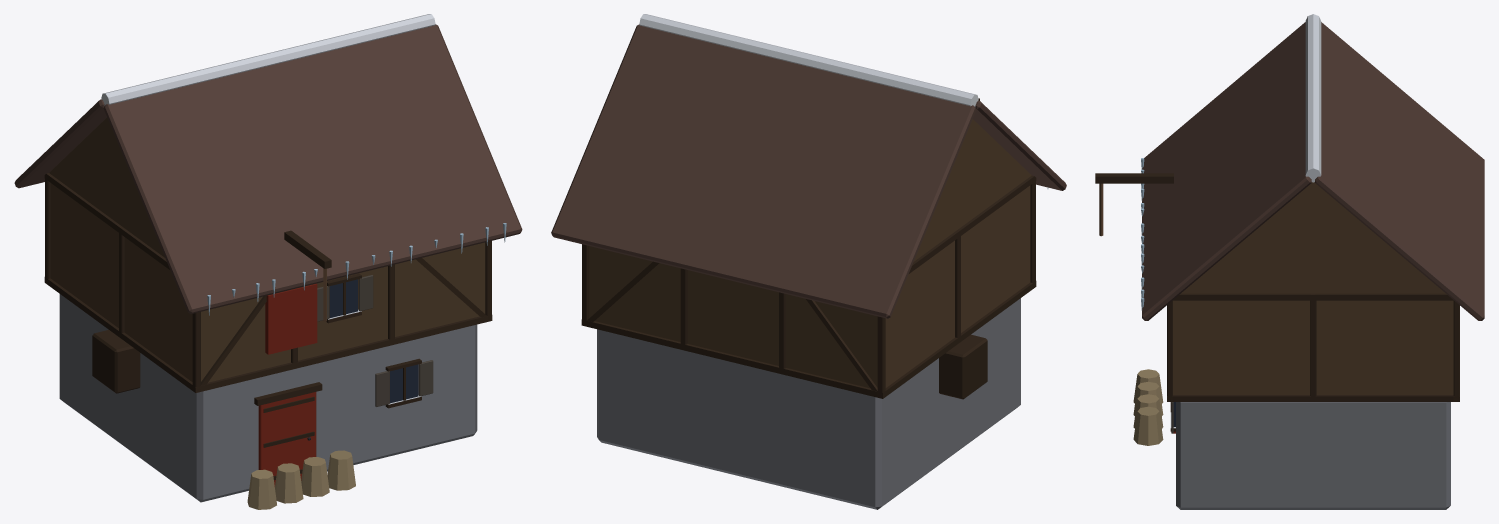
File: village_mill.glb
3 views of the same model, side by side, from view 1: azimuth 30°, elevation 25°; view 2: azimuth 150°, elevation 25°; view 3: azimuth 270°, elevation 25° (orthographic). The views are drawn at different scales.
Visible parts, largest first — view 1: village_mill; view 2: village_mill; view 3: village_mill.
Part boxes in pixels (x1=…): village_mill: x1=14, y1=14, x2=522, y2=509; village_mill: x1=551, y1=14, x2=1066, y2=509; village_mill: x1=1095, y1=14, x2=1484, y2=509.
Size of the model in its own units: 9.5 by 9.95 by 9.91.
